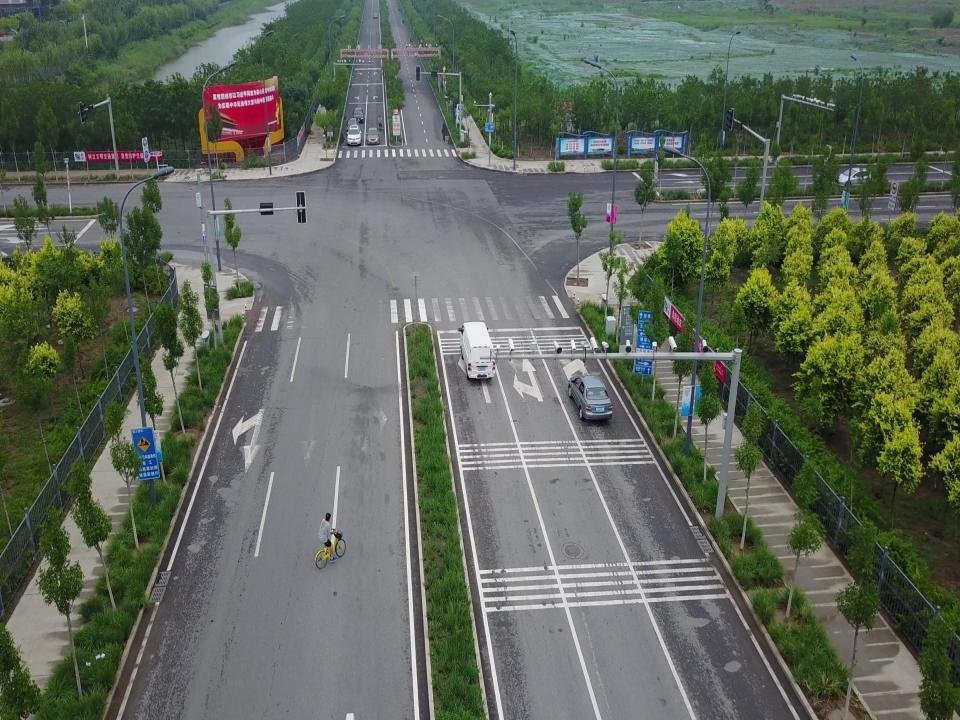car: (568, 374, 613, 421), (834, 167, 878, 189), (346, 125, 362, 145), (366, 127, 380, 145), (345, 117, 359, 133), (352, 107, 364, 123), (372, 11, 378, 19)
van: (457, 321, 496, 380)
